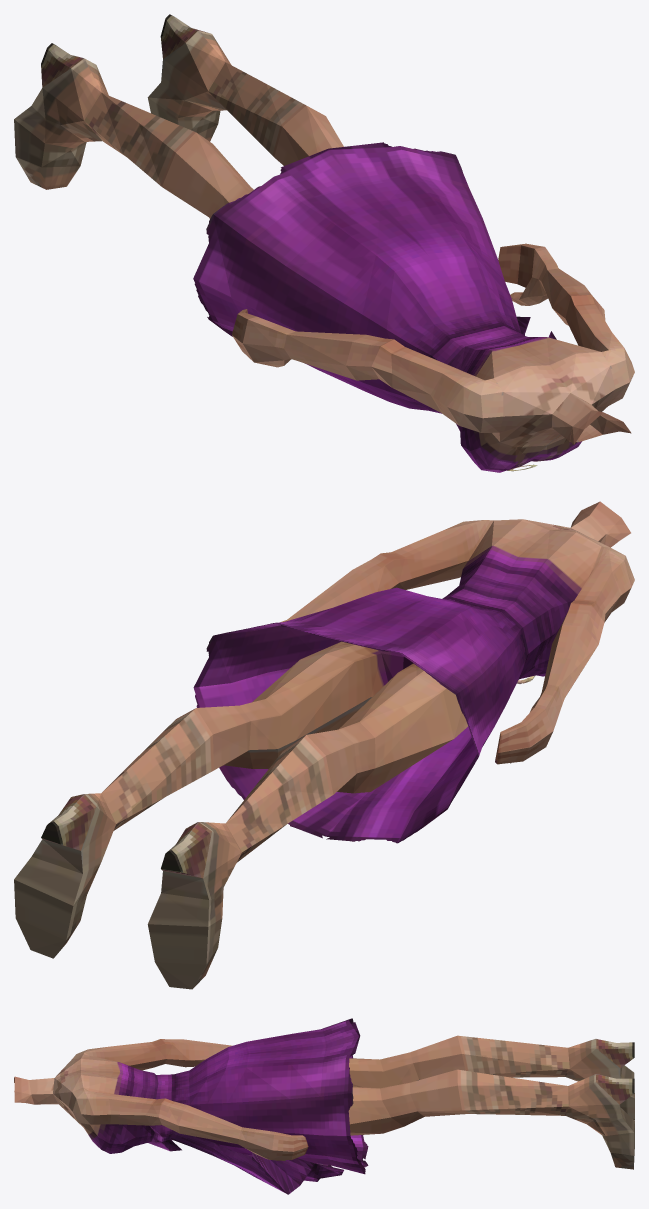
Rendered from common_dress_female_85226.obj.
The picture shows the model from 3 angles, top to bottom: view 1: azimuth 30°, elevation 25°; view 2: azimuth 150°, elevation 25°; view 3: azimuth 270°, elevation 25°; orthographic projection. The views are drawn at different scales.
Parts seen in each view (by area): view 1: common_dress_female_85226; view 2: common_dress_female_85226; view 3: common_dress_female_85226.
Part boxes in pixels (left/top/right/bottom): common_dress_female_85226: left=14, top=14, right=634, bottom=472; common_dress_female_85226: left=14, top=501, right=634, bottom=989; common_dress_female_85226: left=14, top=1018, right=634, bottom=1194.
Size of the model in its own units: 28.62 by 17.4 by 78.52.
2 materials, 2 textured.
